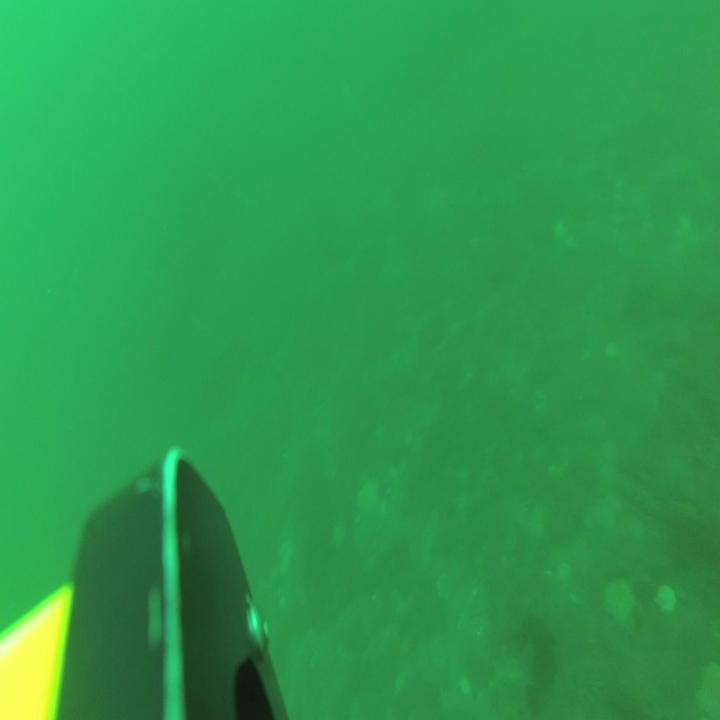scallop: (655, 579, 678, 618)
starfish: (602, 573, 635, 631), (356, 476, 381, 523)
